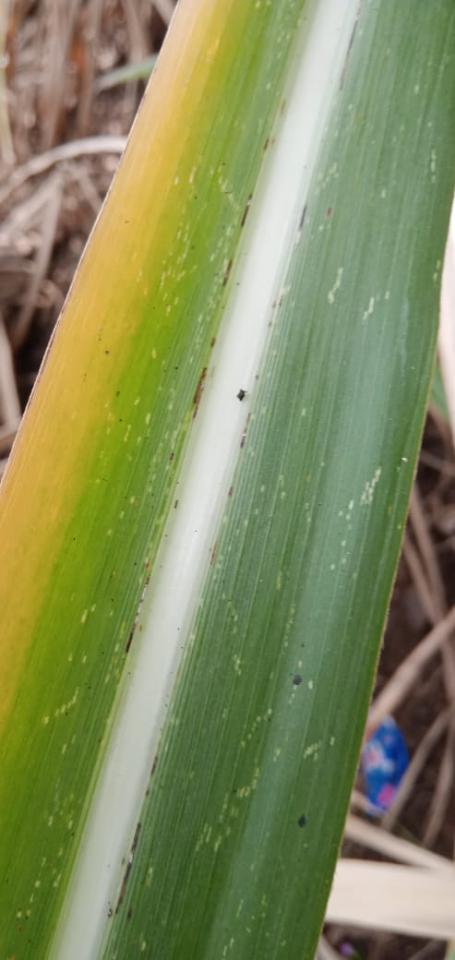Rust: (336, 20, 360, 91), (114, 861, 133, 915), (191, 366, 207, 420), (129, 821, 143, 854), (124, 623, 137, 654), (222, 259, 234, 287), (298, 204, 309, 231), (240, 205, 251, 228), (149, 755, 160, 778), (296, 813, 309, 829), (292, 674, 303, 686), (280, 100, 288, 116), (126, 907, 134, 922), (262, 138, 270, 152), (244, 412, 252, 426), (239, 435, 246, 450), (325, 206, 333, 219), (210, 337, 218, 349), (227, 487, 235, 498), (144, 575, 152, 585), (173, 499, 180, 509), (168, 451, 175, 461), (247, 192, 254, 201), (107, 909, 113, 918), (121, 856, 126, 866), (144, 789, 150, 797), (241, 428, 247, 434), (254, 375, 260, 381), (271, 139, 275, 146)
Yellow: (0, 0, 262, 732)
